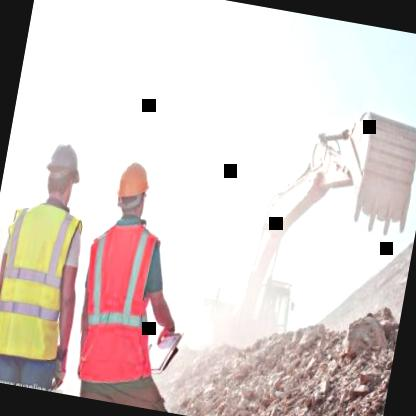helmet: (34, 125, 90, 216), (106, 146, 156, 233)
